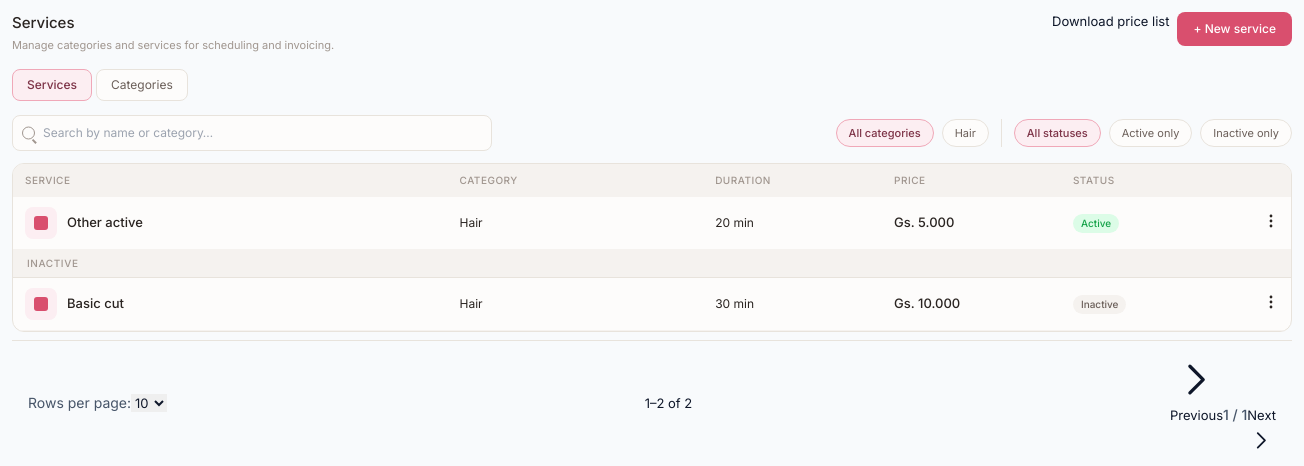
Test: ServicesPage › filters to inactive-only services when the inactive quick filter is selected
Expected: the text "Other active" is shown, [67,213,143,233]
Click the button "Inactive only": x=1246, y=133 [1200,119,1292,147]
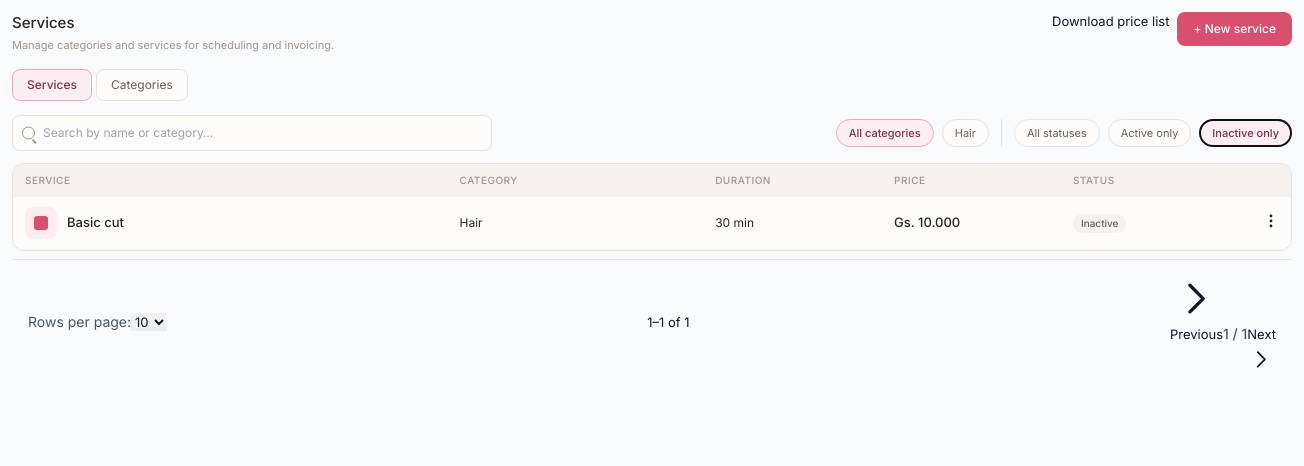
Expected: the text "Basic cut" is shown, [67,213,124,233]
Expected: the button "Other active" is gone
